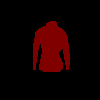giaccone: (32, 20, 70, 72)
